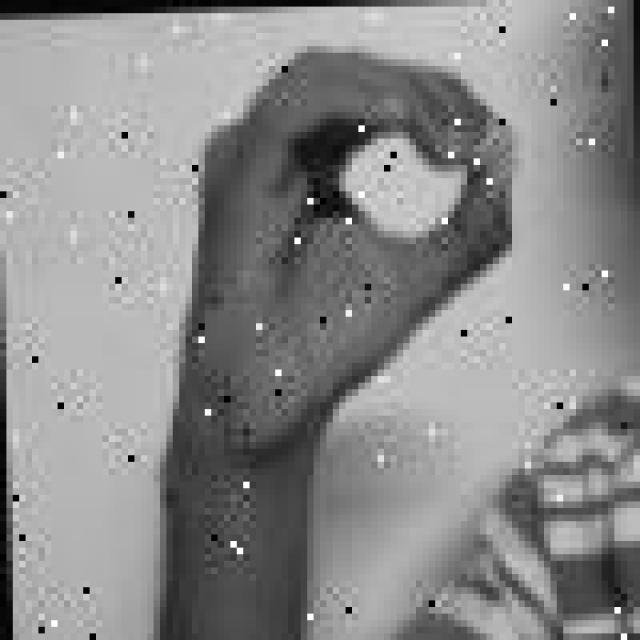O: (173, 26, 525, 449)
